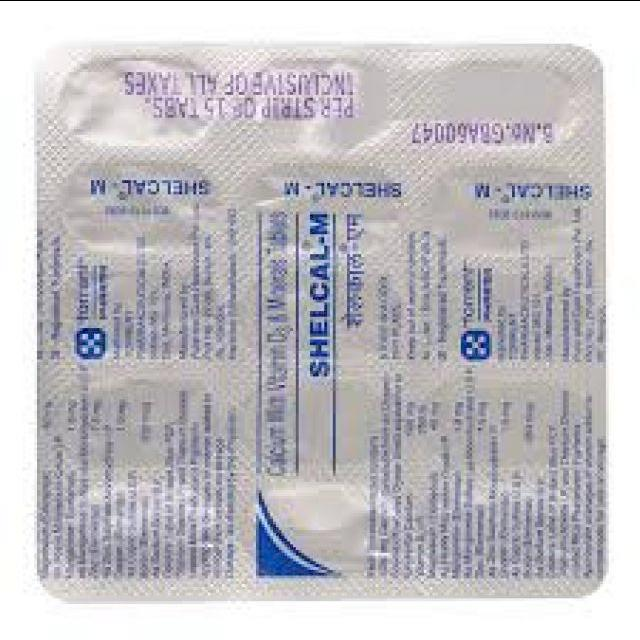authentic: (11, 31, 613, 628)
